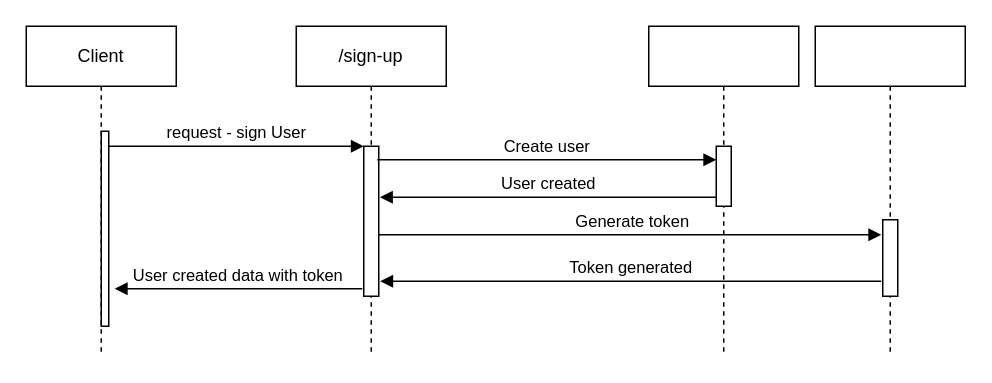
The diagram is 992 pixels wide and 383 high, and some of its shapes have lost their labels. The shapes that lost their labels are listed below. From the top down, each one's centre as x and y in pixels, then its label:
At (x=723, y=190): "UserSerice".
At (x=889, y=190): "JwtUtil".
